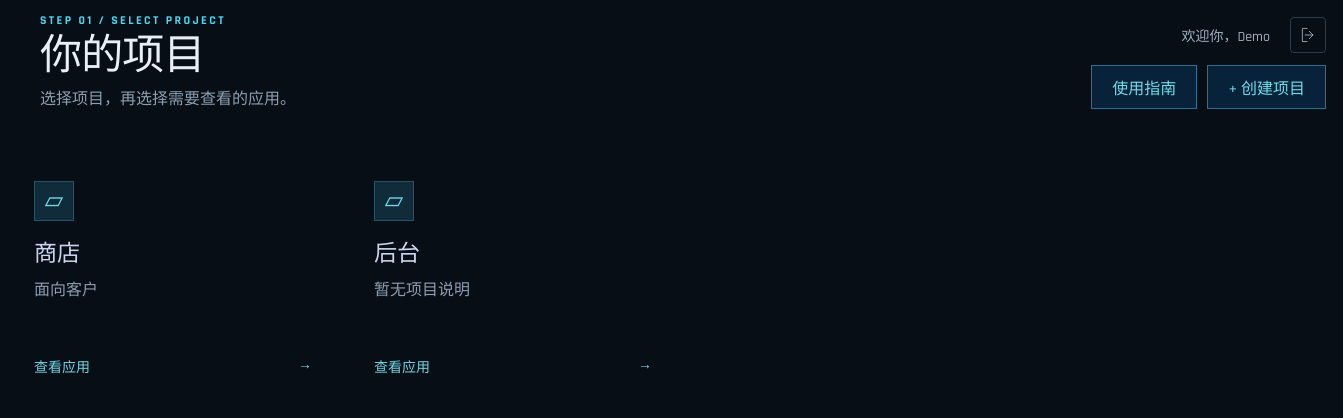
Test case: returns to the project list from the application list
Click the button with class "selection-card" showing "▱ 商店 面向客户 查看应用 →" at (54, 201), box [10, 157, 336, 401]
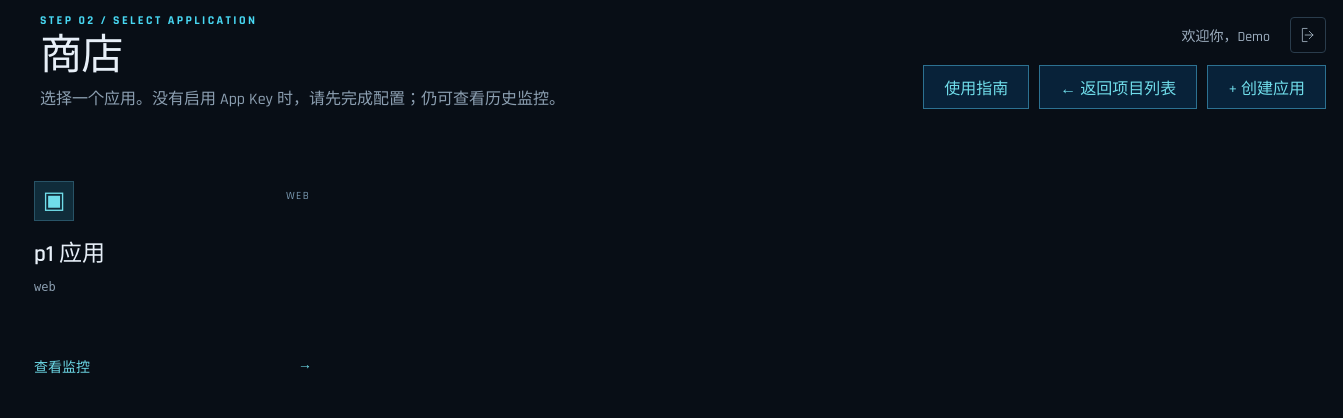
Result: the text "p1 应用" is shown at [34, 241, 105, 269]
Click the button with class "back-button" at (1118, 87), box [1039, 65, 1197, 109]
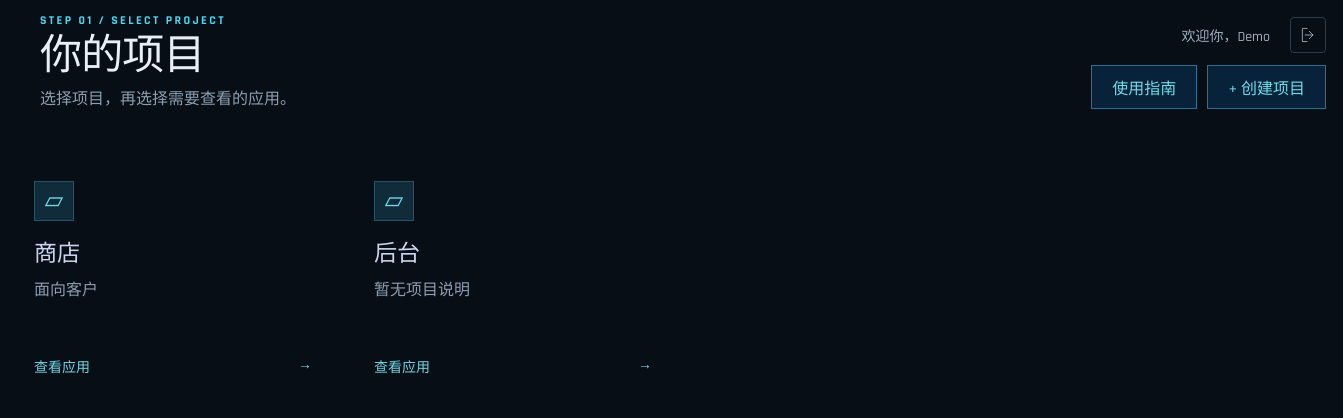
Result: the text "你的项目" is shown at [40, 30, 205, 84]
Result: the number of buttons with class "selection-card" is 2 at [10, 157, 336, 401]; [350, 157, 676, 401]
